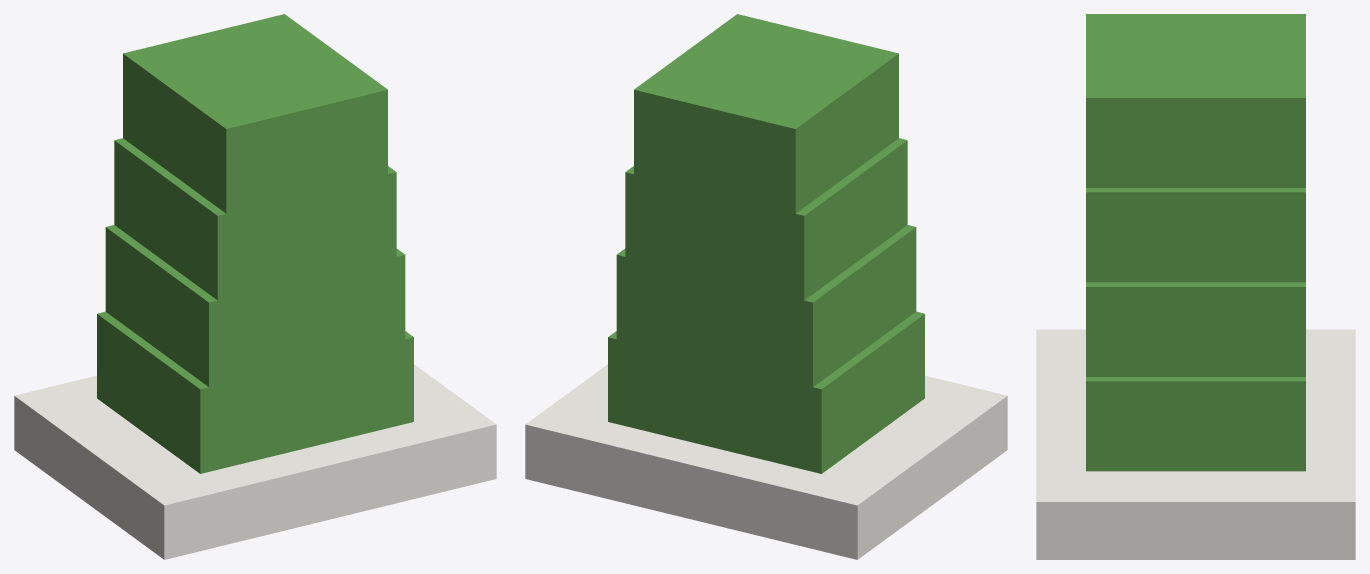
File: indoor_garden-lv4.glb
3 views of the same model, side by side, from view 1: azimuth 30°, elevation 25°; view 2: azimuth 150°, elevation 25°; view 3: azimuth 270°, elevation 25° (orthographic). The views are drawn at different scales.
Visible parts, largest first — view 1: Base, Level4, Level1, Level2, Level3; view 2: Base, Level4, Level1, Level2, Level3; view 3: Base, Level4, Level1, Level2, Level3.
Boxes of the visible parts, x1,y1,x2,y2 form: Base: [14, 364, 496, 559]; Level4: [123, 14, 387, 213]; Level1: [97, 311, 413, 473]; Level2: [105, 225, 405, 387]; Level3: [114, 138, 396, 300]; Base: [525, 364, 1007, 559]; Level4: [634, 14, 898, 213]; Level1: [608, 311, 924, 473]; Level2: [616, 225, 916, 387]; Level3: [625, 138, 907, 300]; Base: [1036, 329, 1355, 559]; Level4: [1086, 14, 1305, 187]; Level1: [1086, 377, 1305, 471]; Level2: [1086, 282, 1305, 376]; Level3: [1086, 188, 1305, 282].
Size of the model in its own units: 1.15 by 1.3 by 0.9.
